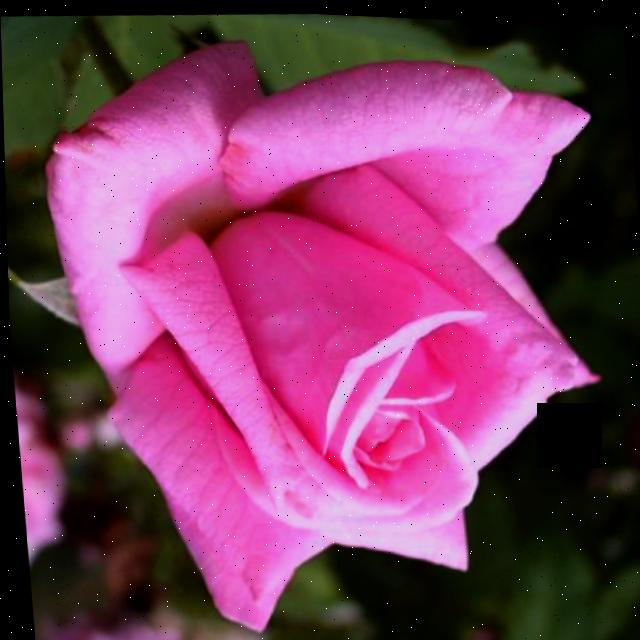rose: (33, 11, 636, 640)
